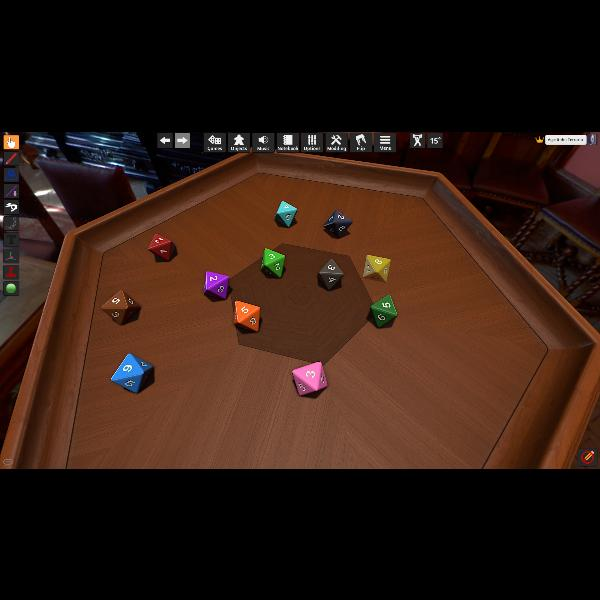d8: (112, 351, 154, 391), (100, 290, 140, 325), (291, 360, 325, 394), (369, 294, 396, 326), (234, 300, 260, 332), (325, 208, 352, 238), (318, 258, 343, 290), (148, 231, 174, 260), (363, 253, 389, 281), (261, 248, 285, 278), (205, 270, 229, 298), (275, 200, 297, 226)
